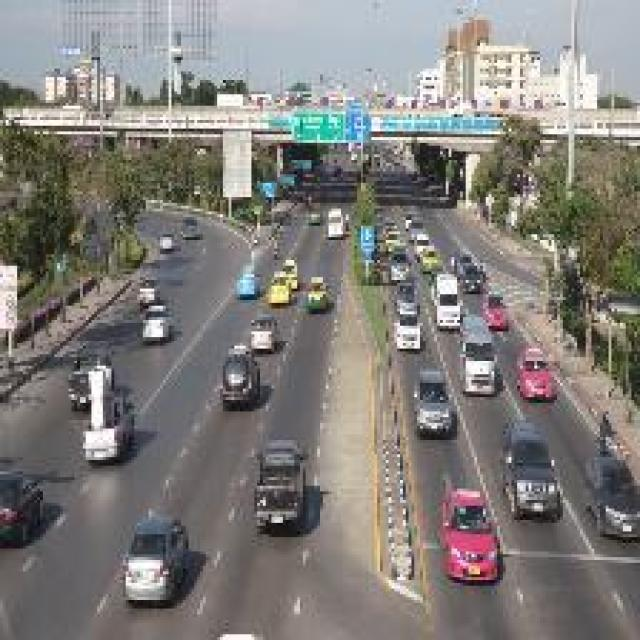other: (426, 476, 512, 587), (476, 284, 558, 396), (266, 245, 294, 300)
